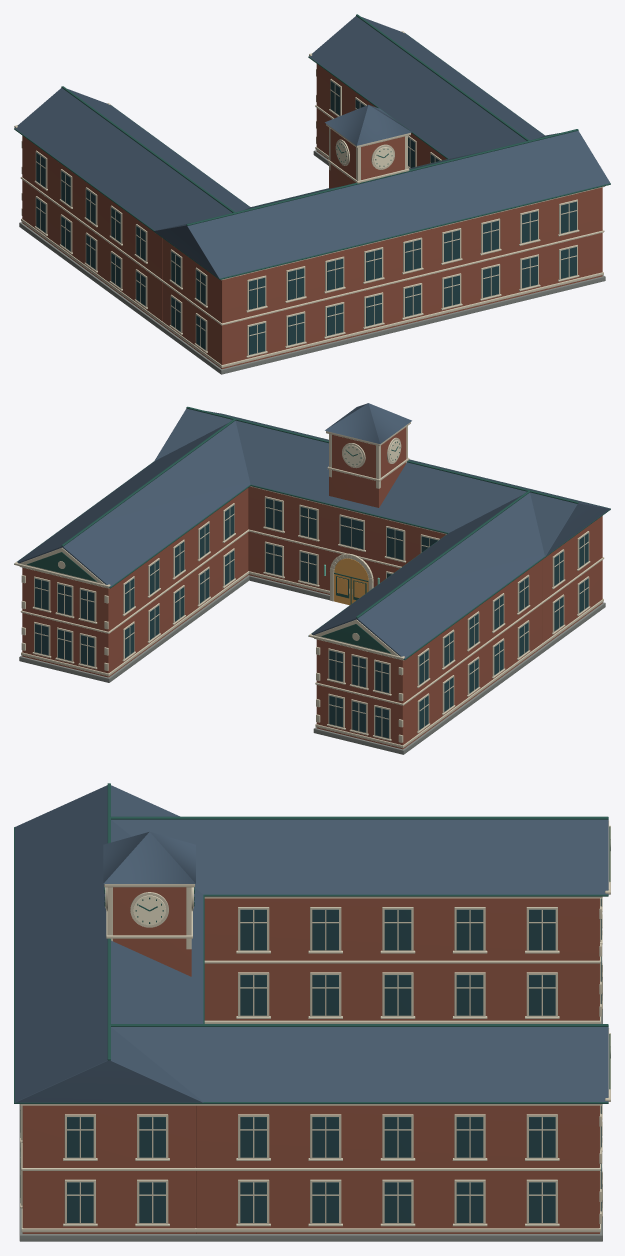
The model's file is d01_academic_buildings_01.glb.
3 views of the same model, one above another, from view 1: azimuth 30°, elevation 25°; view 2: azimuth 150°, elevation 25°; view 3: azimuth 270°, elevation 25° (orthographic). The views are drawn at different scales.
Visible parts, largest first — view 1: D01AcademicBuildings01_Mesh; view 2: D01AcademicBuildings01_Mesh; view 3: D01AcademicBuildings01_Mesh.
Part boxes in pixels (<box>): D01AcademicBuildings01_Mesh: <box>14,14,610,374</box>; D01AcademicBuildings01_Mesh: <box>14,403,610,754</box>; D01AcademicBuildings01_Mesh: <box>14,783,610,1241</box>.
Size of the model in its own units: 45.2 by 21 by 41.37.
